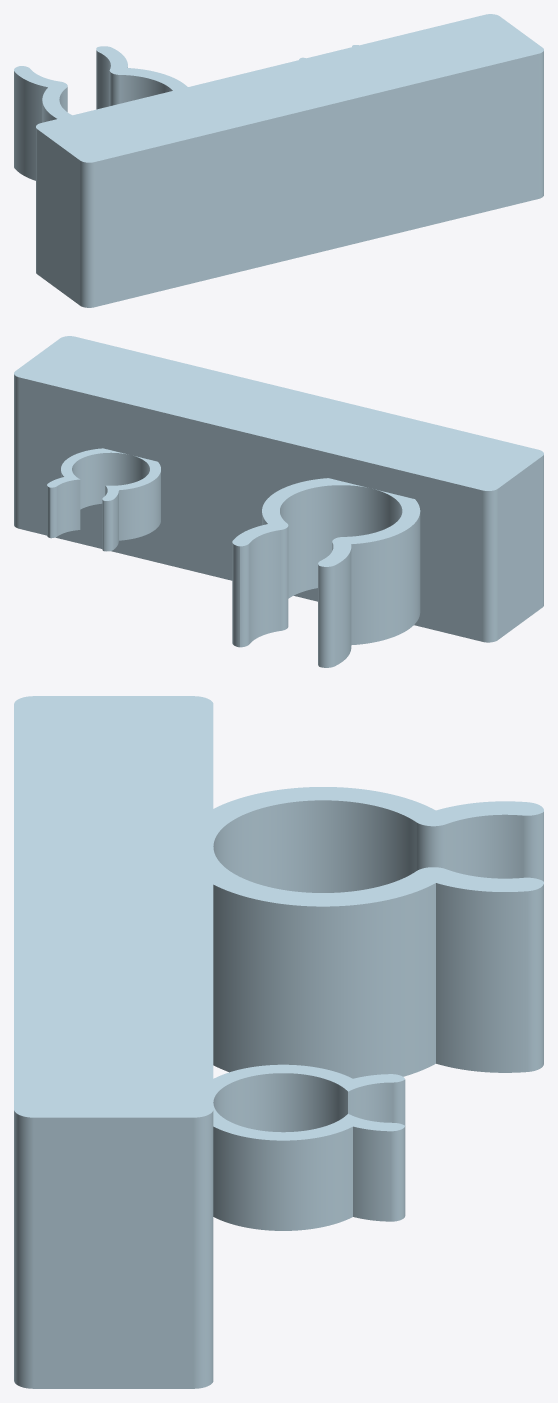
The model's file is part_studio.gltf.
3 renders of one model, top to bottom at view 1: azimuth 30°, elevation 25°; view 2: azimuth 150°, elevation 25°; view 3: azimuth 270°, elevation 25°, orthographic. The views are drawn at different scales.
Parts seen in each view (by area): view 1: Part 1; view 2: Part 1; view 3: Part 1.
Boxes of the visible parts, left/top/right/bottom form: Part 1: left=14, top=14, right=543, bottom=307; Part 1: left=14, top=336, right=543, bottom=667; Part 1: left=14, top=696, right=543, bottom=1388.
Bounding box in the file's own units: 0.05 × 0.015 × 0.0266.
